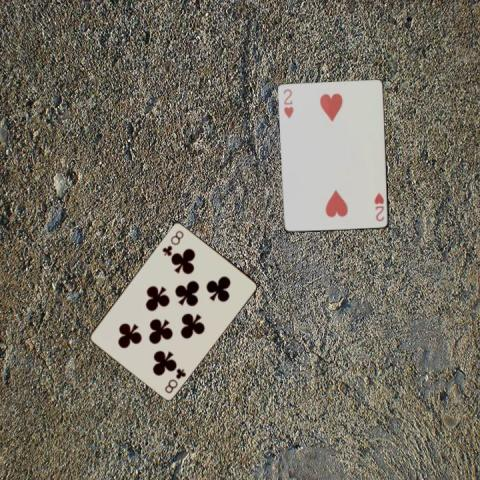2h: (371, 190, 386, 223), (281, 86, 295, 120)
8c: (160, 227, 186, 257), (162, 364, 188, 394)
